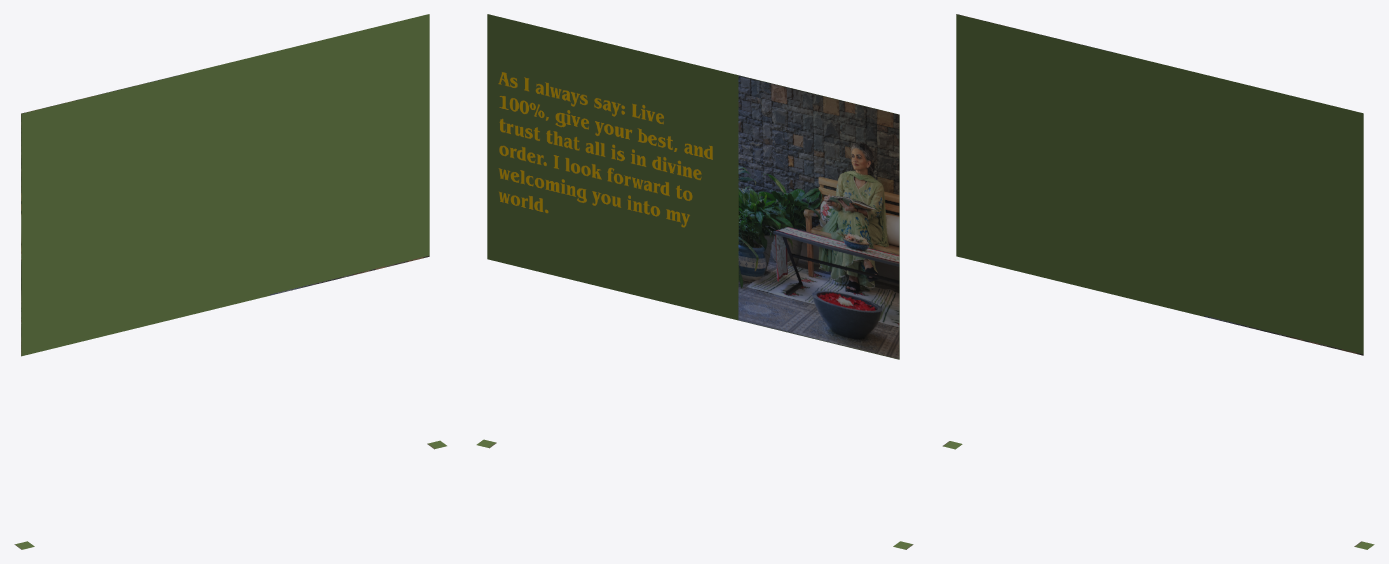
Rendered from slide5.gltf.
3 renders of one model, left to right at view 1: azimuth 30°, elevation 25°; view 2: azimuth 150°, elevation 25°; view 3: azimuth 330°, elevation 25°, orthographic.
Parts seen in each view (by area): view 1: slide5; view 2: slide5; view 3: slide5.
Boxes of the visible parts, <box> form: slide5: <box>14,14,446,549</box>; slide5: <box>476,14,913,549</box>; slide5: <box>942,14,1374,549</box>.
Size of the model in its own units: 2.4 by 2.31 by 0.0731.
Materials: 1 (1 with a texture image).
